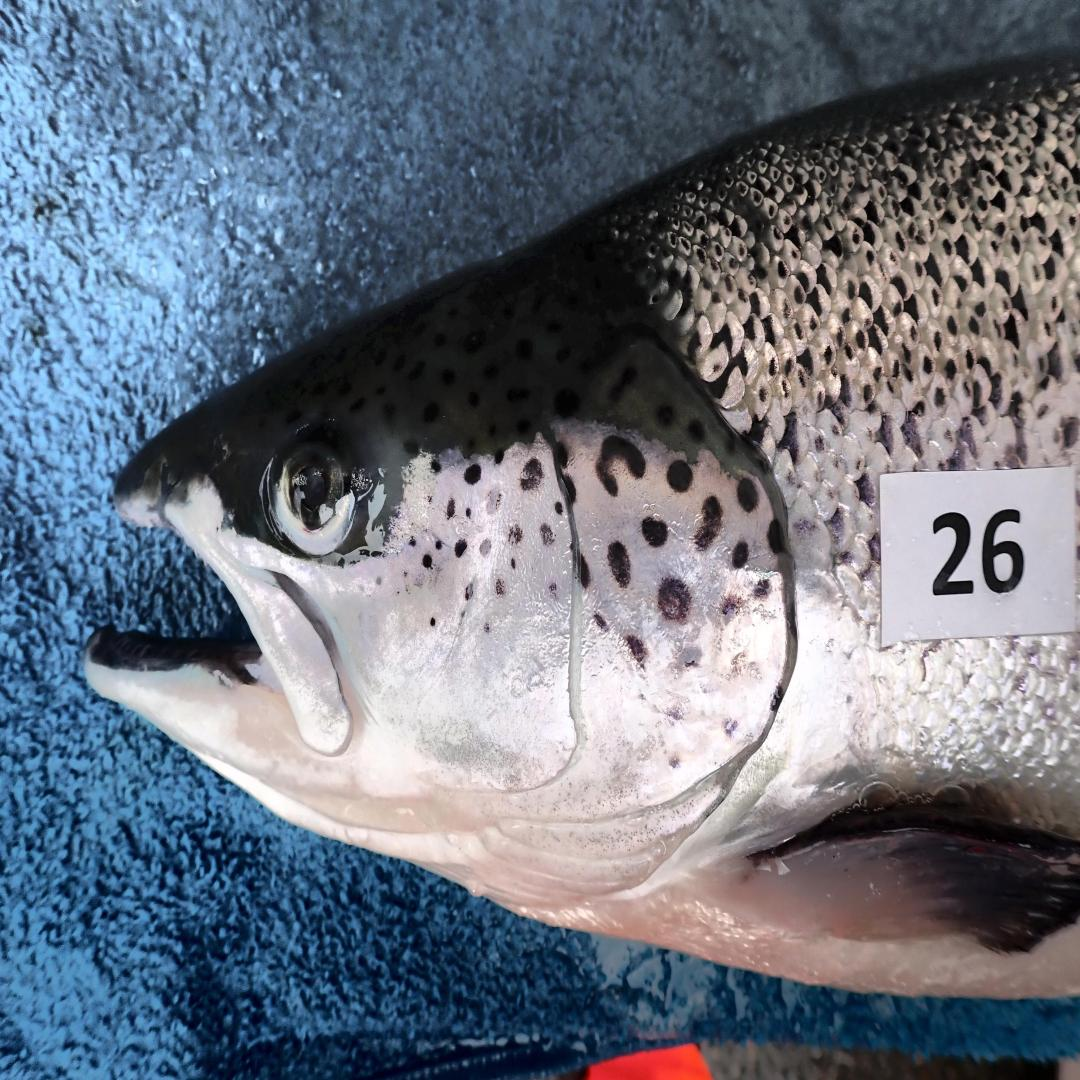spot: (596, 435, 646, 496), (657, 576, 691, 623), (694, 495, 723, 549), (607, 541, 631, 588), (667, 460, 693, 492), (641, 517, 668, 547), (520, 458, 544, 491), (737, 477, 758, 513), (624, 634, 646, 666), (767, 518, 784, 553), (721, 595, 743, 618), (562, 472, 576, 503), (732, 541, 748, 568), (680, 647, 701, 667), (463, 464, 481, 485), (580, 556, 591, 588), (556, 441, 568, 468), (508, 523, 523, 544), (540, 523, 554, 545), (754, 579, 770, 598), (593, 612, 608, 630), (487, 493, 500, 513), (454, 539, 467, 557), (479, 539, 491, 555), (430, 457, 441, 473), (446, 499, 455, 518), (495, 579, 504, 595), (464, 584, 473, 600), (548, 582, 557, 598), (422, 554, 432, 568), (494, 449, 504, 463), (555, 501, 563, 514), (430, 616, 436, 627), (408, 538, 416, 546), (435, 540, 442, 549), (465, 508, 471, 518), (484, 623, 490, 633), (511, 558, 515, 570)
